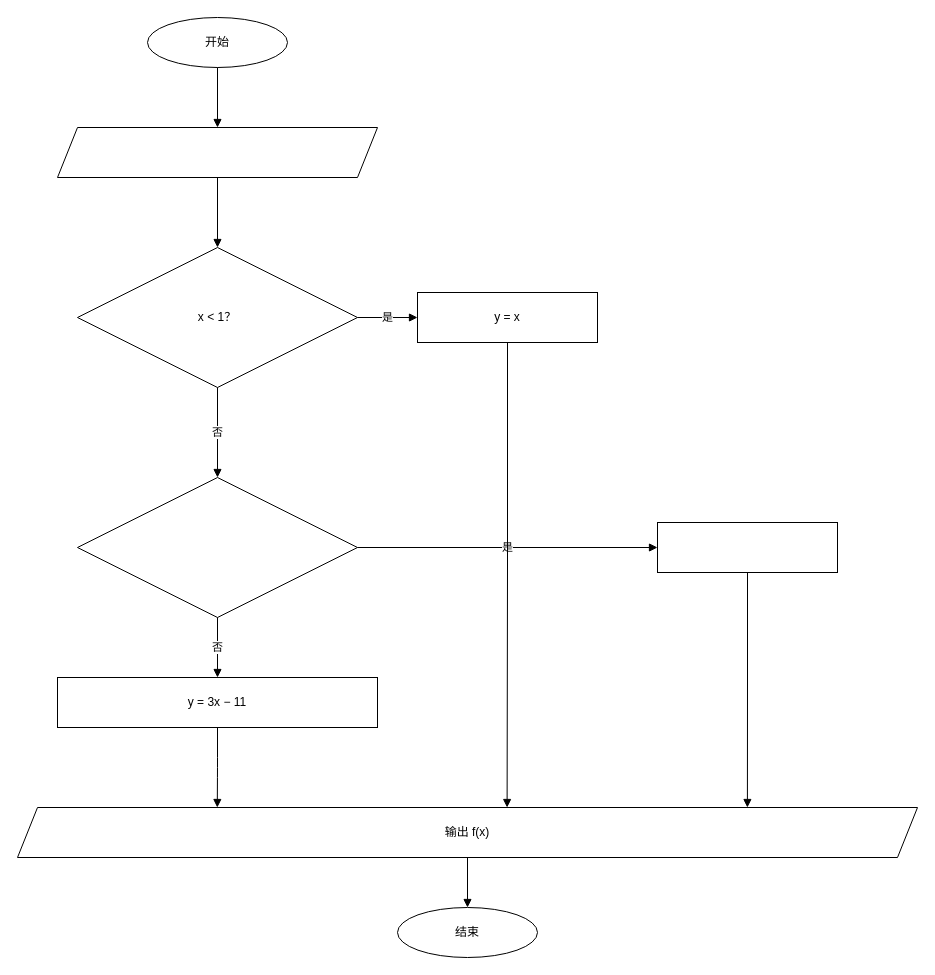
The diagram is 935 pixels wide and 975 high, and some of its shapes have lost their labels. The shapes that lost their labels are listed below. From the top down, each one's box as (x1, y1, x2, y2) in pixels, then its label:
(56, 126, 378, 178): 输入 x
(76, 476, 358, 618): x < 10？
(656, 522, 838, 572): y = 2x − 1
